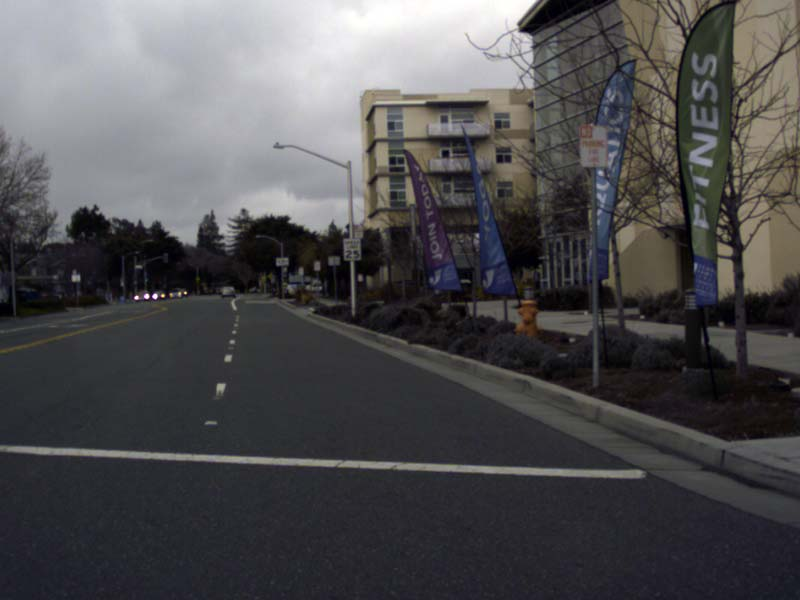Green: (262, 272, 268, 283), (144, 272, 149, 283)
